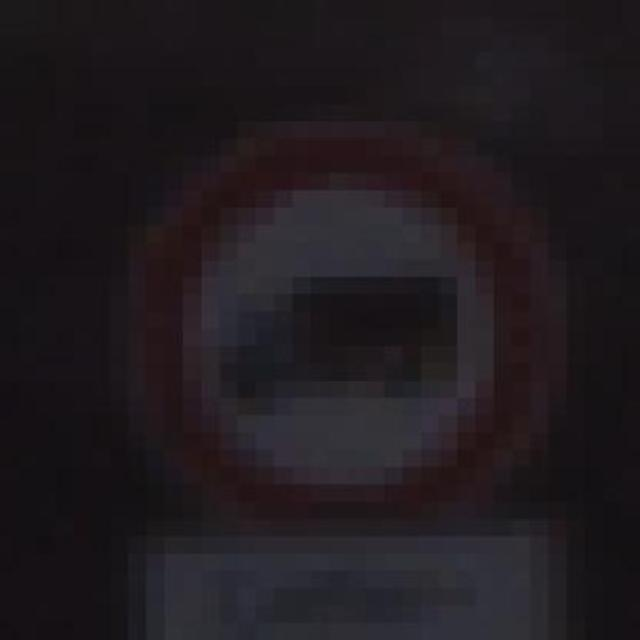Truck traffic is prohibited: (73, 103, 567, 554)
